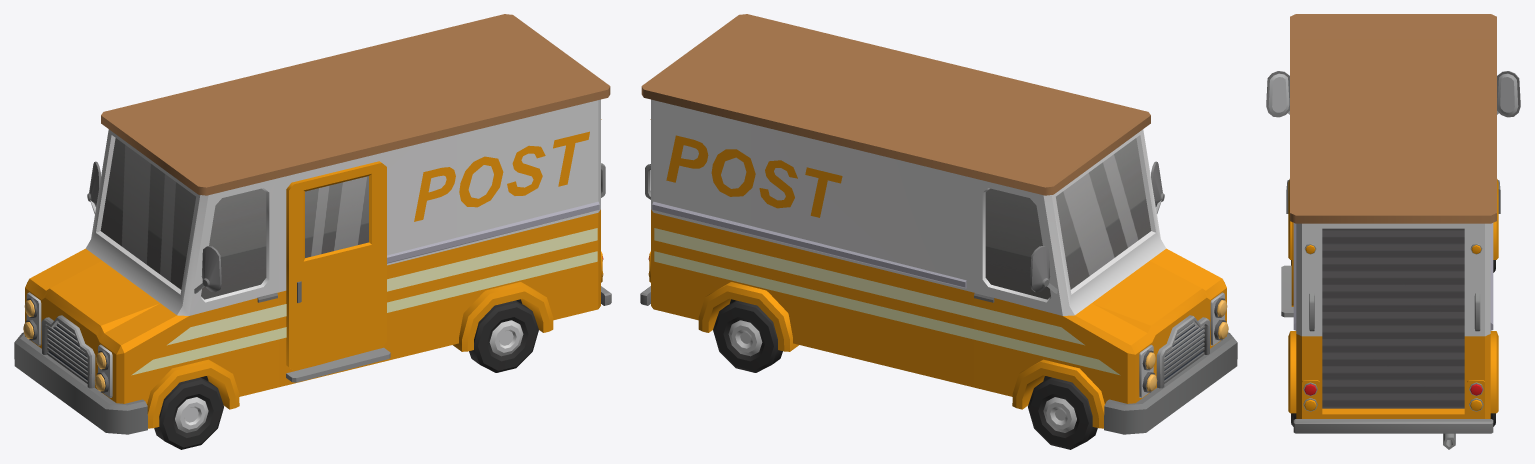
The model's file is PostCar_1_H.gltf.
3 renders of one model, left to right at view 1: azimuth 30°, elevation 25°; view 2: azimuth 150°, elevation 25°; view 3: azimuth 270°, elevation 25°, orthographic.
Parts seen in each view (by area): view 1: PostCar_1_H, RL, FL; view 2: PostCar_1_H, RR, FR; view 3: PostCar_1_H.
Part boxes in pixels (<box>): PostCar_1_H: <box>14,14,611,434</box>; RL: <box>469,300,538,372</box>; FL: <box>154,377,223,449</box>; PostCar_1_H: <box>640,14,1237,434</box>; RR: <box>713,300,782,372</box>; FR: <box>1028,377,1097,449</box>; PostCar_1_H: <box>1266,14,1520,449</box>.
Size of the model in its own units: 4.14 by 2.02 by 1.8.
5 materials, 5 textured.
